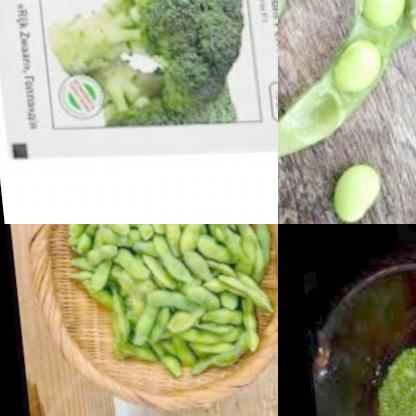beans: (49, 224, 260, 379), (278, 0, 416, 170), (292, 0, 416, 120), (300, 147, 389, 224)
broccoli: (43, 0, 248, 140), (358, 295, 416, 416)
